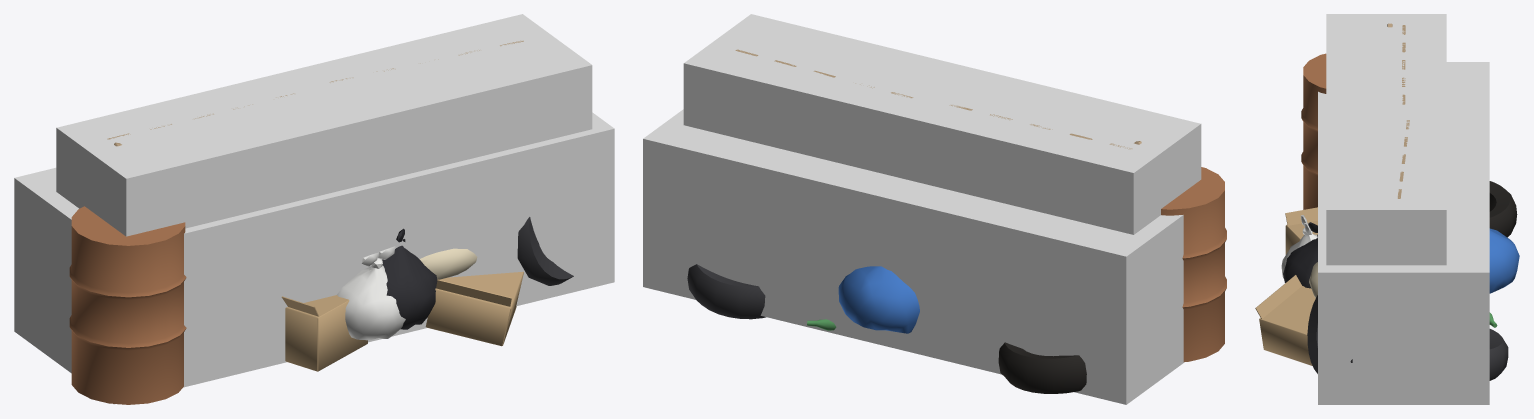
File: favela.glb
3 views of the same model, side by side, from view 1: azimuth 30°, elevation 25°; view 2: azimuth 150°, elevation 25°; view 3: azimuth 270°, elevation 25° (orthographic). The views are drawn at different scales.
Parts seen in each view (by area): view 1: Col_BarricadaMadeira_0, Col_BarricadaPneus_0, BarricadaPneus, Lixo_c, Lixo_a, BarricadaMadeira; view 2: Col_BarricadaPneus_0, Col_BarricadaMadeira_0, BarricadaPneus, Lixo_c; view 3: Col_BarricadaPneus_0, Col_BarricadaMadeira_0, Lixo_c, BarricadaPneus, Lixo_a, BarricadaMadeira.
Boxes of the visible parts, box(x1,y1,x2,y2) form: Col_BarricadaMadeira_0: box(56, 14, 592, 236); Col_BarricadaPneus_0: box(14, 112, 614, 404); BarricadaPneus: box(69, 206, 573, 404); Lixo_c: box(337, 246, 523, 346); Lixo_a: box(281, 228, 437, 371); BarricadaMadeira: box(107, 40, 523, 279); Col_BarricadaPneus_0: box(643, 109, 1184, 404); Col_BarricadaMadeira_0: box(683, 14, 1201, 234); BarricadaPneus: box(687, 167, 1226, 393); Lixo_c: box(838, 266, 919, 333); Col_BarricadaPneus_0: box(1318, 62, 1489, 404); Col_BarricadaMadeira_0: box(1326, 14, 1446, 265); Lixo_c: box(1255, 215, 1519, 365); BarricadaPneus: box(1301, 53, 1517, 380); Lixo_a: box(1283, 207, 1317, 288); BarricadaMadeira: box(1309, 23, 1409, 297).
Bounding box in the file's own units: 3 × 1.25 × 1.54.
